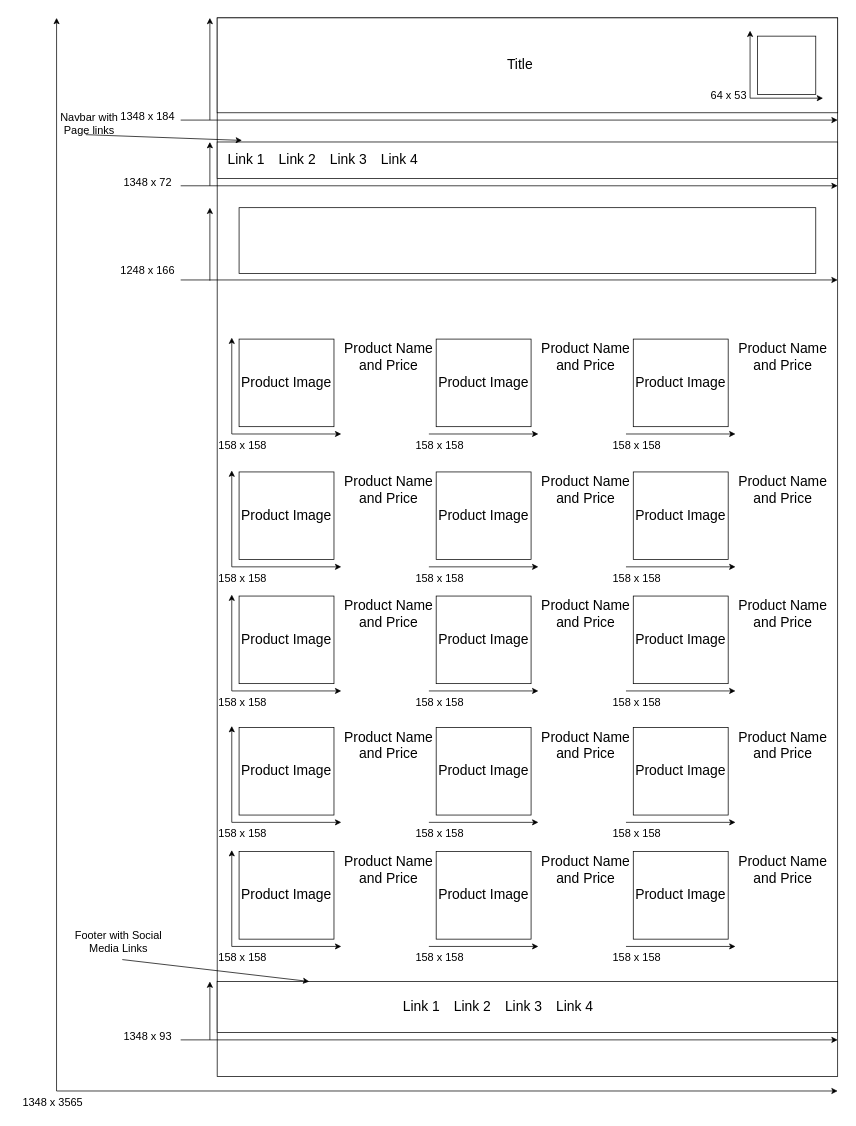
Image size: 856x1126. Some labels were removed from this diagram. Here are the shapes that lost their labels. From the top down, the box of each, then its label:
(757, 35, 816, 95): Logo
(238, 207, 816, 273): Section Title
